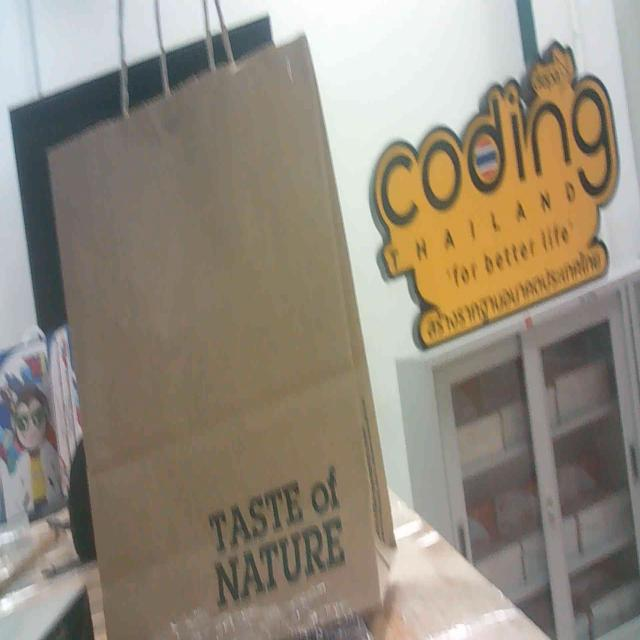bag: (18, 73, 404, 640)
